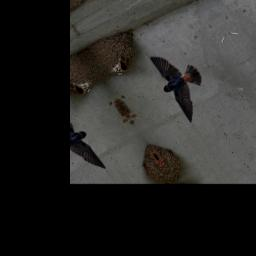Swallow: (142, 41, 225, 127)
